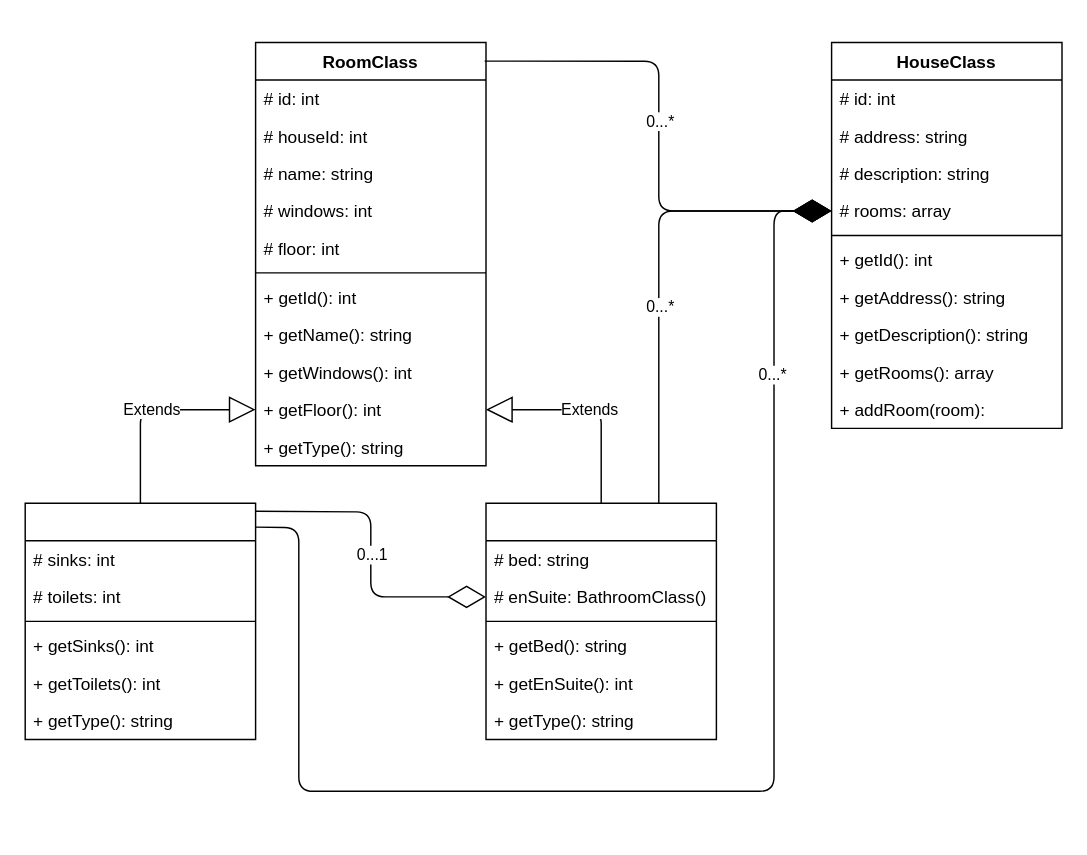
The diagram is 1087 pixels wide and 855 high, and some of its shapes have lost their labels. Here are the shapes that lost their labels. From the top down, the box of each, then its label:
(24, 502, 256, 739): BathroomClass
(485, 502, 716, 739): BedroomClass
